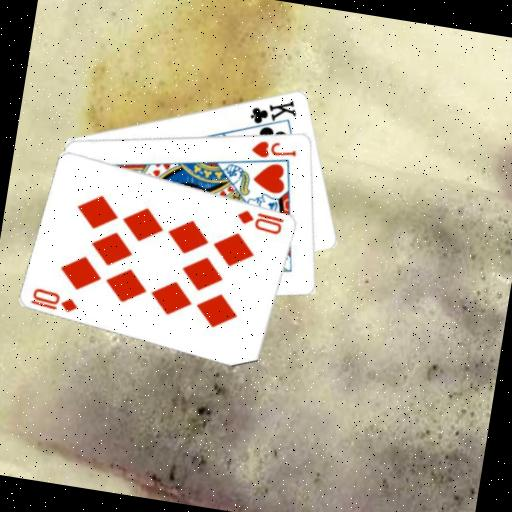10D: (27, 283, 82, 315), (232, 205, 286, 237)
JH: (247, 133, 300, 164)
KC: (244, 89, 300, 137)
